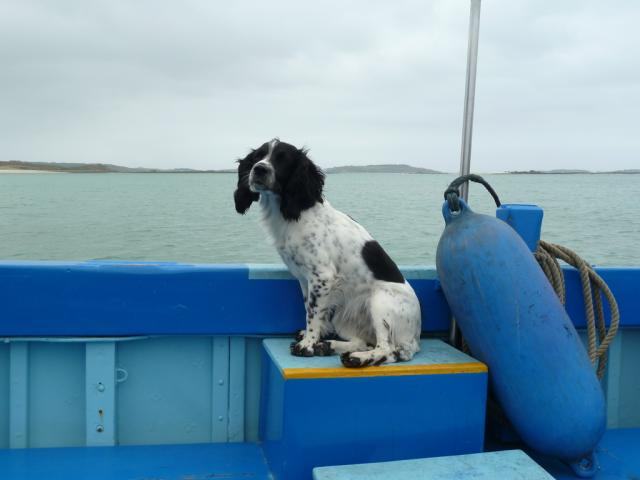Dog: (234, 137, 422, 369)
